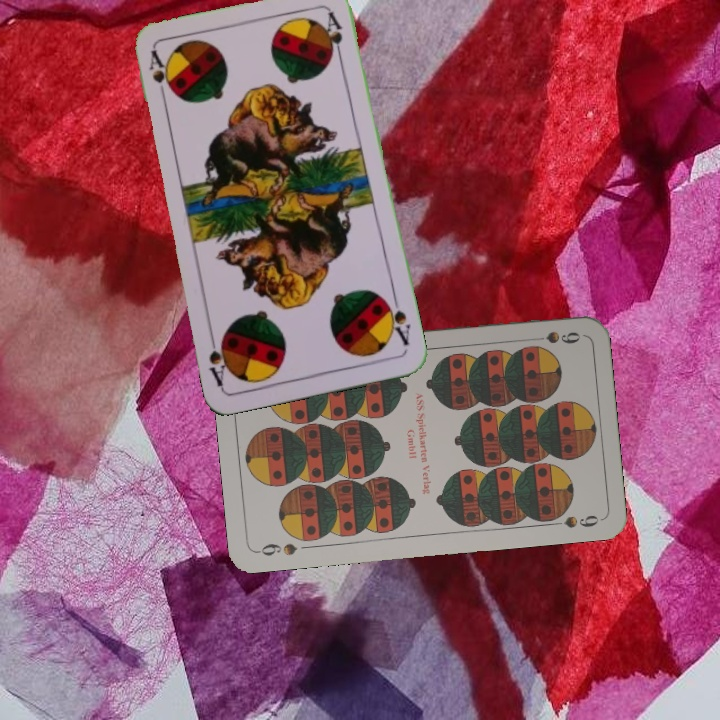S9: (524, 327, 583, 346), (253, 539, 300, 558)
SA: (380, 292, 414, 348), (145, 46, 174, 105)
